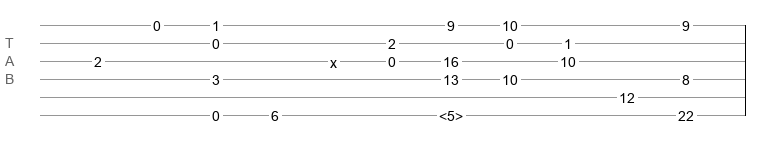0: (153, 18, 161, 28), (212, 108, 220, 118), (212, 36, 220, 46), (388, 54, 396, 64), (506, 36, 514, 46)
1: (212, 18, 220, 28), (564, 36, 572, 46)
10: (502, 72, 518, 82), (502, 18, 518, 28), (560, 54, 576, 64)
12: (619, 90, 635, 100)
13: (443, 72, 459, 82)
16: (443, 54, 459, 64)
2: (94, 54, 102, 64), (388, 36, 396, 46)
22: (678, 108, 694, 118)
3: (212, 72, 220, 82)
6: (271, 108, 279, 118)
8: (682, 72, 690, 82)
9: (447, 18, 455, 28), (682, 18, 690, 28)
harmonic: (439, 108, 463, 118)
x: (330, 55, 337, 63)
